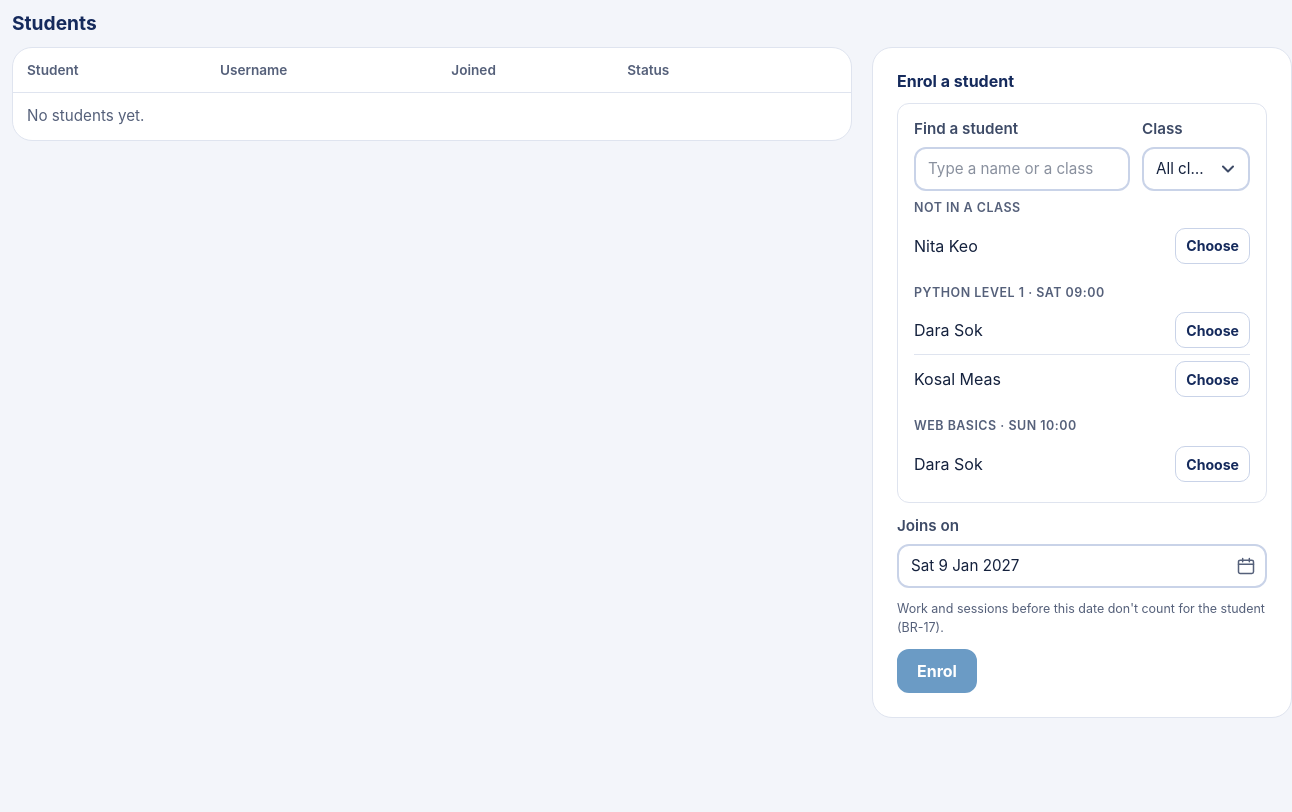
Enrol a student › Change goes back to the finder; Enrol waits until a student is chosen
Check: the button "Enrol" is disabled, box [897,649,977,693]
Click the button with aria-label "Choose Kosal Meas".
click(1213, 380)  # box [1175,362,1250,398]
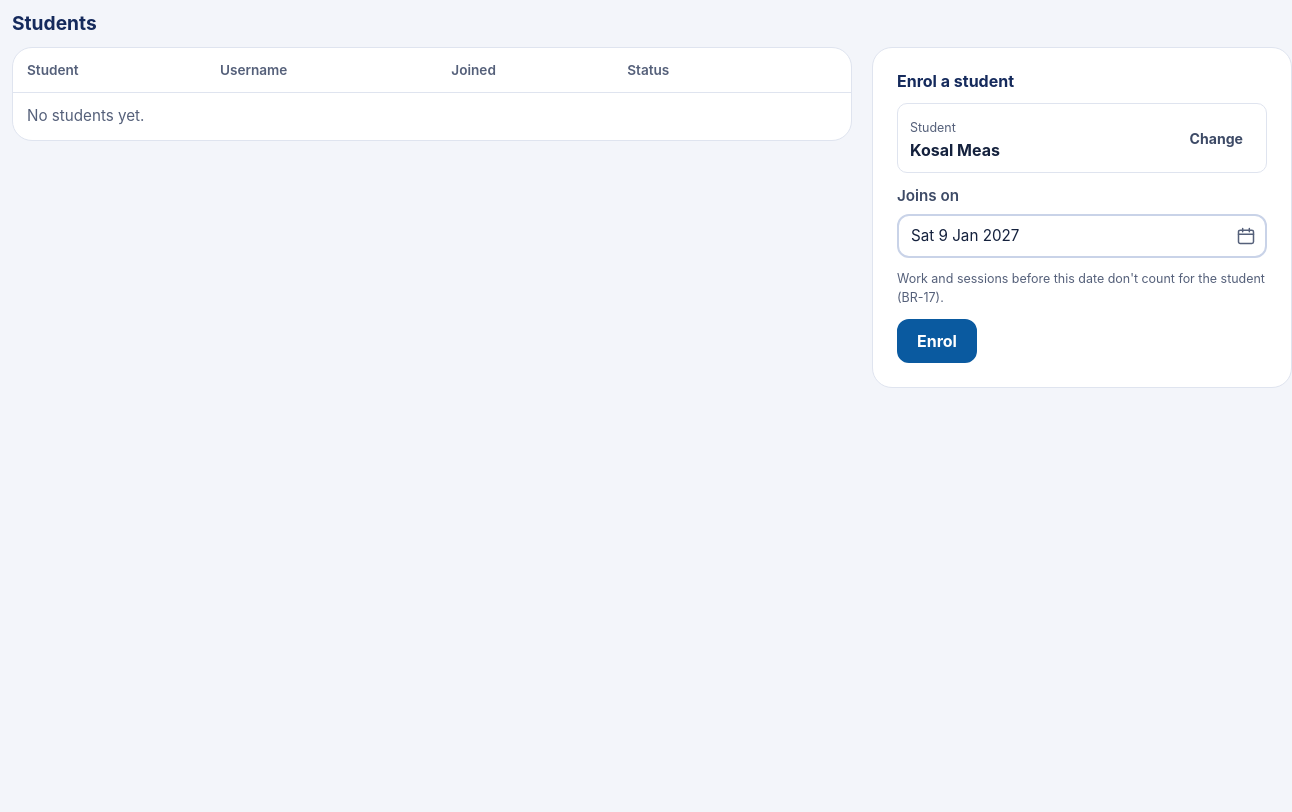
Check: the button "Enrol" is enabled, box [897,320,977,364]
Click the button with aria-label "Change the student".
click(1216, 138)  # box [1179,120,1254,156]
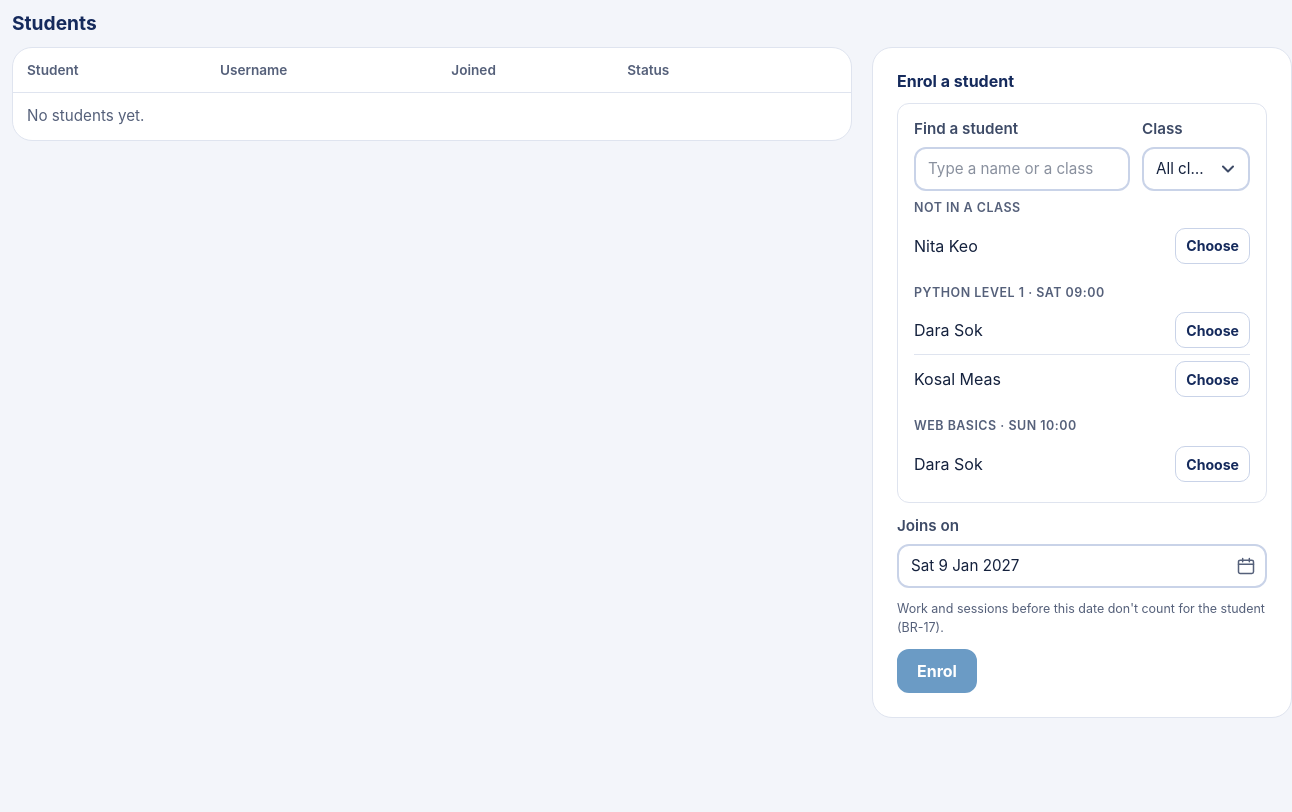
Check: the search field labelled "Find a student" is shown, box [914,147,1130,191]
